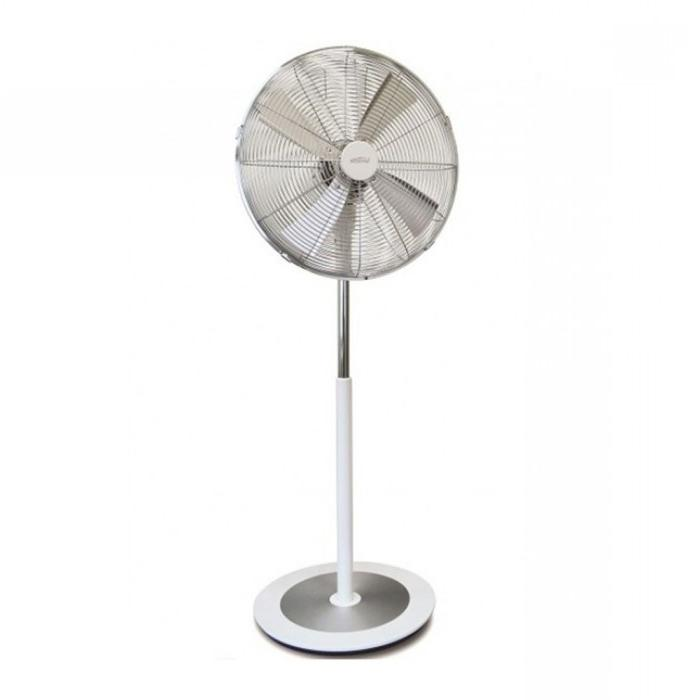fan: (230, 39, 459, 693)
